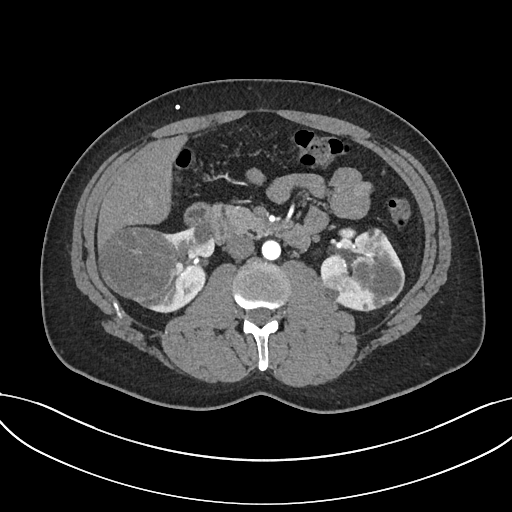Lesion: (94, 225, 183, 305)
